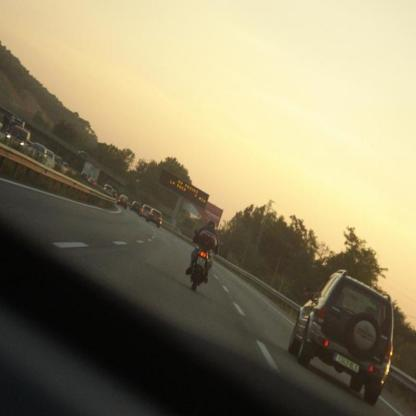Car: (289, 276, 396, 402), (25, 143, 47, 161), (152, 210, 163, 229), (117, 196, 127, 210), (132, 201, 142, 215), (141, 206, 152, 218), (106, 185, 115, 195)
